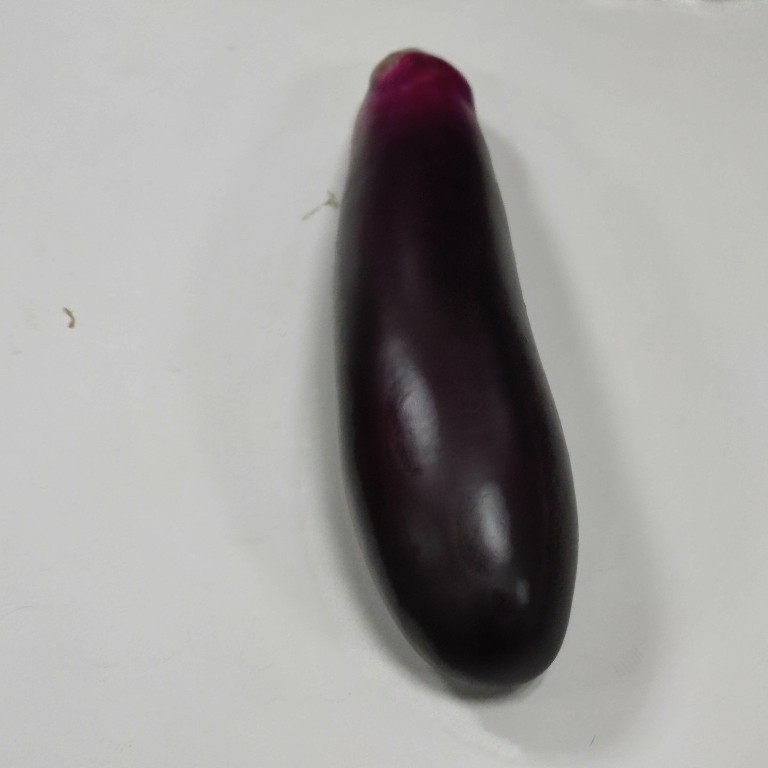fruit_eggplant: (325, 42, 594, 698)
